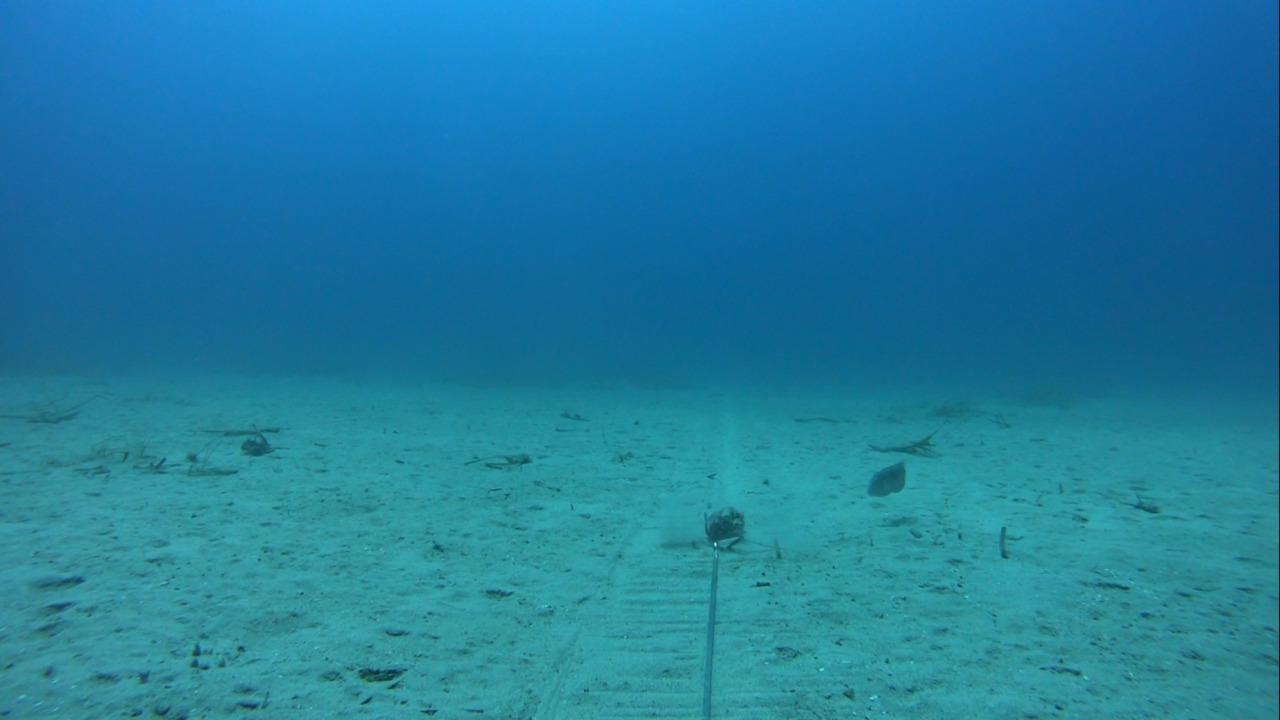raor: (864, 454, 912, 501)
